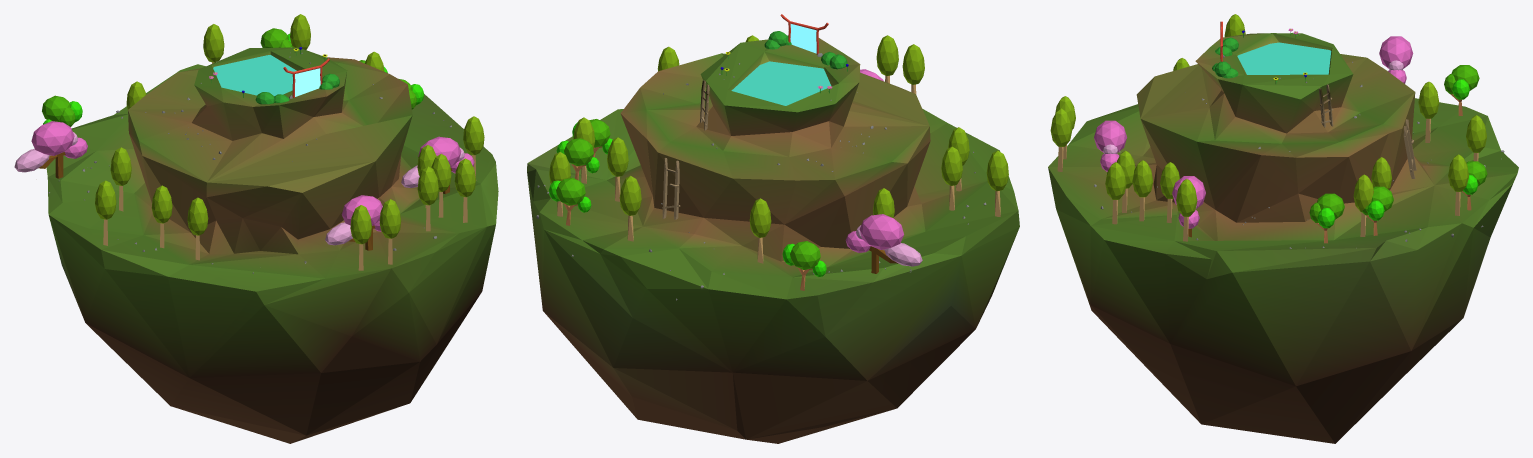
The picture shows the model from 3 angles, left to right: view 1: azimuth 30°, elevation 25°; view 2: azimuth 150°, elevation 25°; view 3: azimuth 270°, elevation 25°; orthographic projection. The views are drawn at different scales.
Visible parts, largest first — view 1: Island.011, Water.011, Tree3 - 2.043, Tree3 - 2.041, Tree3 - 2.042, Tree1 - 2.056, Tree2 - 2.075, Tree2 - 2.081, Tree2 - 2.078, Tree2 - 2.080, Tree2 - 2.073, Tree2 - 2.068 (+8 smaller); view 2: Island.011, Water.011, Tree3 - 2.043, Tree1 - 2.056, Tree1 - 2.055, Tree1 - 2.054, Tree2 - 2.078, Tree2 - 2.071, Tree2 - 2.079, Tree2 - 2.072, Tree2 - 2.070, Tree2 - 2.081 (+8 smaller); view 3: Island.011, Water.011, Tree3 - 2.041, Tree3 - 2.043, Tree1 - 2.056, Tree1 - 2.053, Tree2 - 2.075, Tree2 - 2.076, Tree2 - 2.073, Tree1 - 2.054, Tree2 - 2.069, Tree2 - 2.079 (+8 smaller).
Part boxes in pixels (x1,y1,x2,y2): Island.011: (46, 47, 498, 443); Water.011: (213, 55, 296, 96); Tree3 - 2.043: (14, 121, 87, 178); Tree3 - 2.041: (325, 195, 382, 250); Tree3 - 2.042: (401, 136, 474, 193); Tree1 - 2.056: (42, 95, 82, 126); Tree2 - 2.075: (379, 199, 401, 264); Tree2 - 2.081: (350, 205, 371, 270); Tree2 - 2.078: (95, 180, 116, 245); Tree2 - 2.080: (417, 166, 438, 231); Tree2 - 2.073: (454, 158, 475, 222); Tree2 - 2.068: (110, 147, 131, 211); Island.011: (527, 38, 1019, 443); Water.011: (731, 61, 831, 105); Tree3 - 2.043: (845, 214, 922, 273); Tree1 - 2.056: (782, 241, 826, 290); Tree1 - 2.055: (549, 177, 591, 225); Tree1 - 2.054: (556, 138, 599, 180); Tree2 - 2.078: (986, 150, 1008, 216); Tree2 - 2.071: (619, 175, 641, 241); Tree2 - 2.079: (749, 198, 771, 263); Tree2 - 2.072: (941, 146, 962, 210); Tree2 - 2.070: (607, 137, 628, 201); Tree2 - 2.081: (902, 44, 924, 94); Island.011: (1048, 33, 1518, 443); Water.011: (1237, 42, 1331, 74); Tree3 - 2.041: (1094, 120, 1127, 171); Tree3 - 2.043: (1379, 36, 1413, 83); Tree1 - 2.056: (1444, 65, 1479, 115); Tree1 - 2.053: (1309, 193, 1344, 243); Tree2 - 2.075: (1050, 108, 1072, 171); Tree2 - 2.076: (1176, 179, 1197, 241); Tree2 - 2.073: (1105, 162, 1126, 224); Tree1 - 2.054: (1362, 186, 1393, 235); Tree2 - 2.069: (1448, 154, 1468, 215); Tree2 - 2.079: (1418, 81, 1439, 142).
Bounding box in the file's own units: 41.96 × 39.87 × 43.73.
